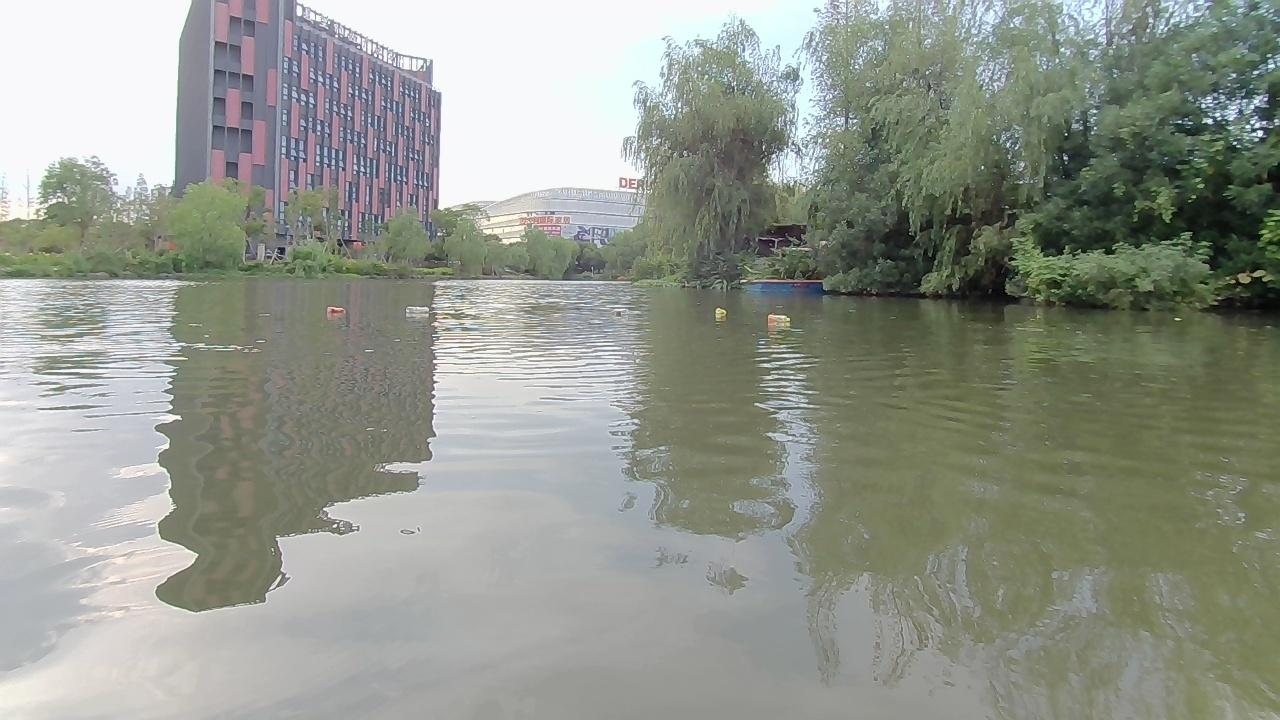bottle: (402, 300, 434, 319), (610, 305, 639, 321), (764, 313, 791, 328), (326, 304, 349, 317), (711, 306, 727, 319)
